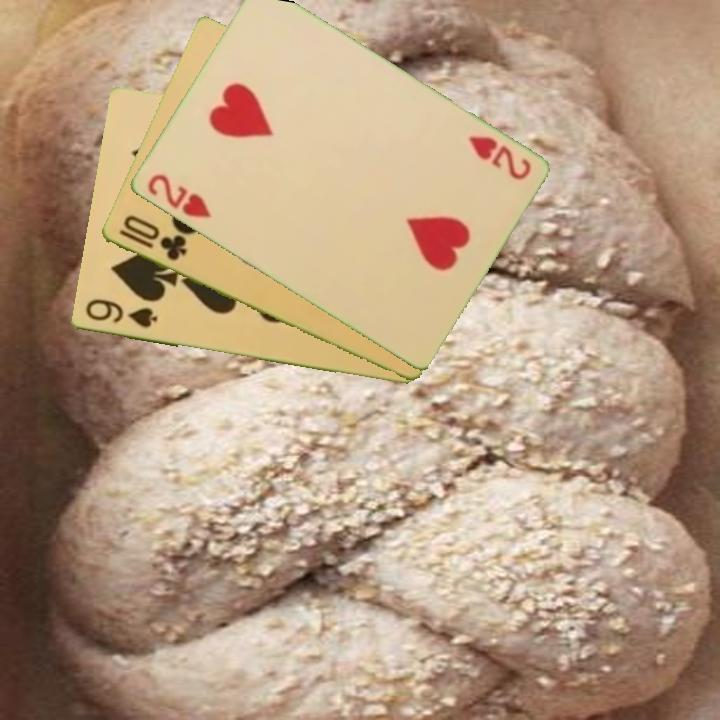10c: (114, 212, 189, 264)
2h: (143, 170, 213, 221), (464, 132, 534, 183)
9s: (81, 295, 160, 331)
